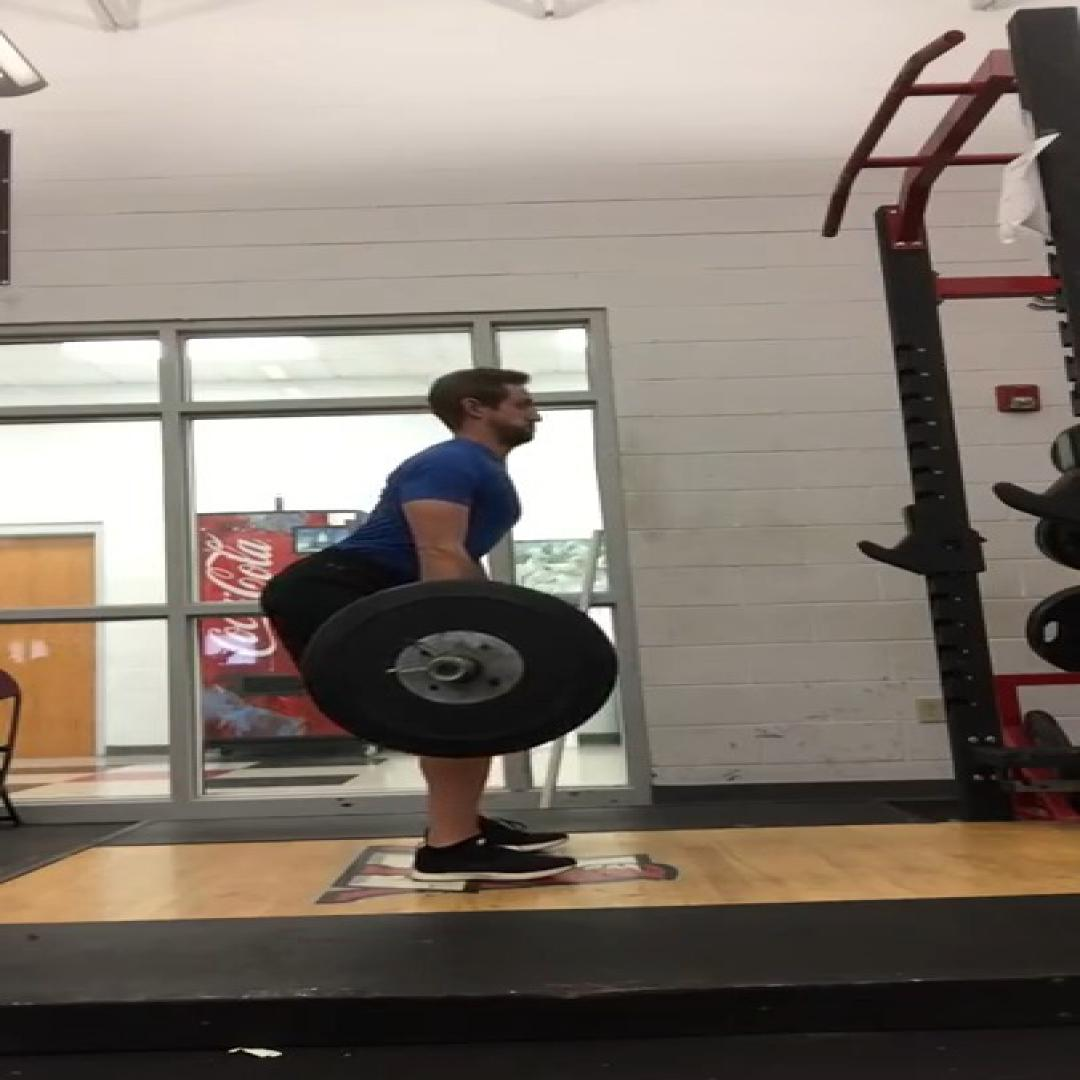Bar: (424, 655, 472, 681)
Barbell: (302, 577, 620, 759)
